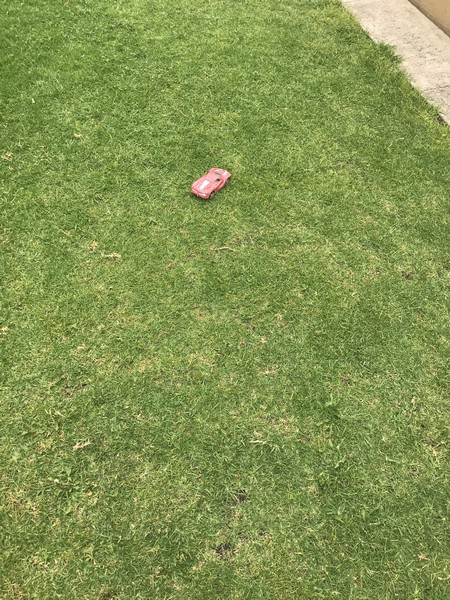RC: (190, 167, 235, 204)
